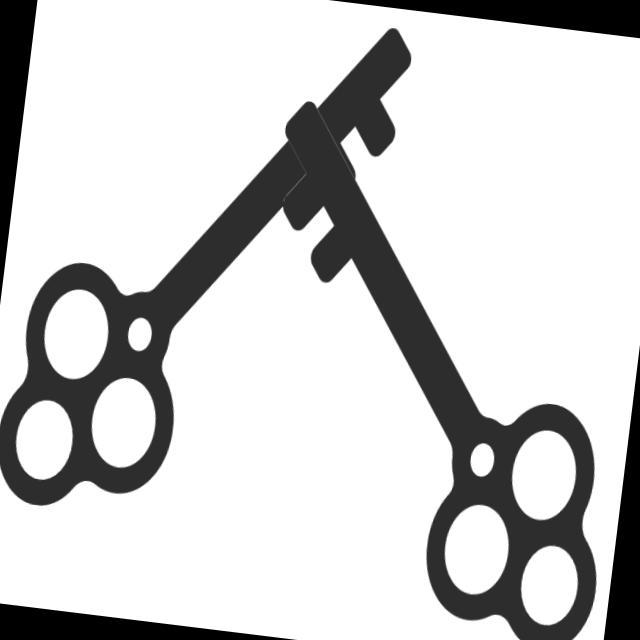key: (1, 1, 428, 555), (217, 82, 640, 640)
